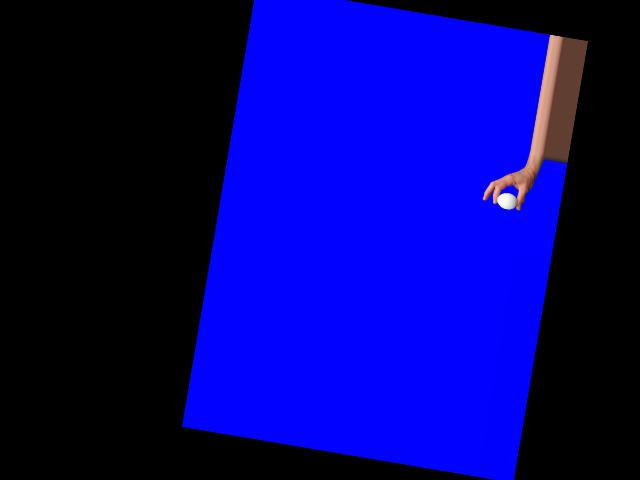egg: (495, 191, 519, 211)
